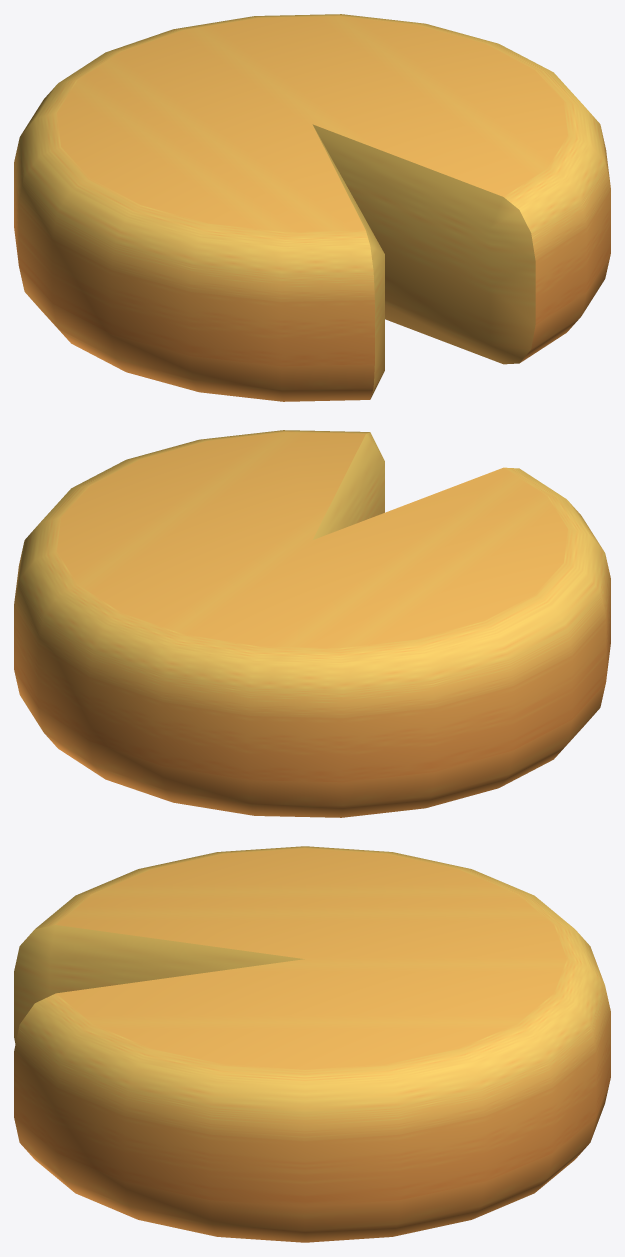
File: Food_Cheese.gltf
3 renders of one model, top to bottom at view 1: azimuth 30°, elevation 25°; view 2: azimuth 150°, elevation 25°; view 3: azimuth 270°, elevation 25°, orthographic.
Visible parts, largest first — view 1: Food_Cheese; view 2: Food_Cheese; view 3: Food_Cheese.
Part boxes in pixels (x1,y1,x2,y2): Food_Cheese: [14, 14, 610, 401]; Food_Cheese: [14, 430, 610, 817]; Food_Cheese: [14, 846, 610, 1242].
Bounding box in the file's own units: 0.9083 × 0.2795 × 0.886.
Materials: 1 (1 with a texture image).
